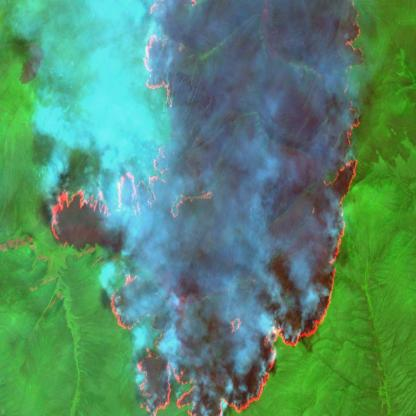fire: (43, 0, 364, 416)
